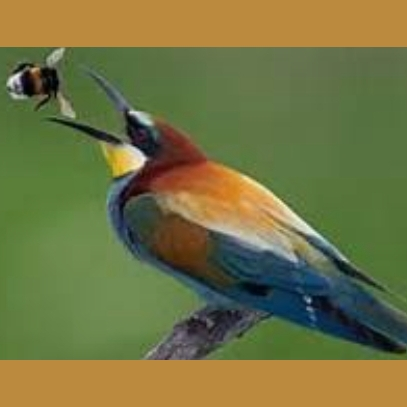Not_a_Chicken: (4, 43, 381, 355)
